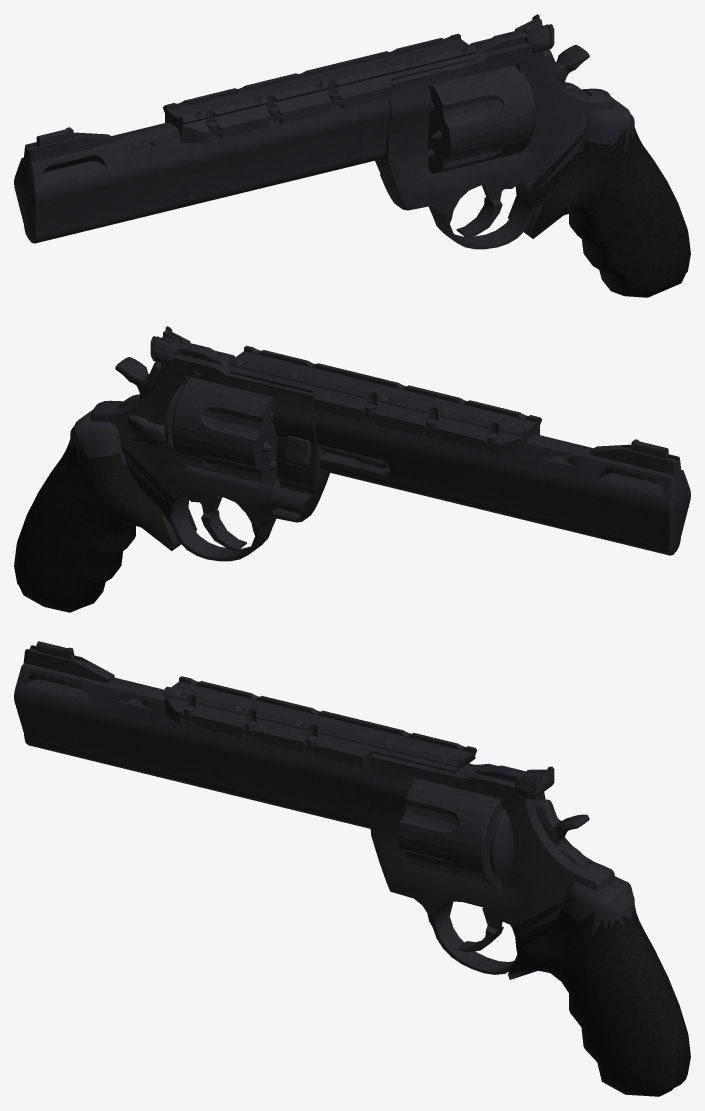
The model's file is revolver.glb.
3 views of the same model, one above another, from view 1: azimuth 30°, elevation 25°; view 2: azimuth 150°, elevation 25°; view 3: azimuth 330°, elevation 25° (orthographic).
Visible parts, largest first — view 1: revolver; view 2: revolver; view 3: revolver.
Part boxes in pixels (bbox=[...]): revolver: bbox=[14, 14, 690, 297]; revolver: bbox=[14, 326, 690, 612]; revolver: bbox=[14, 641, 690, 1096].
Bounding box in the file's own units: 0.3 × 0.131 × 0.0406.
2 materials, 2 textured.
